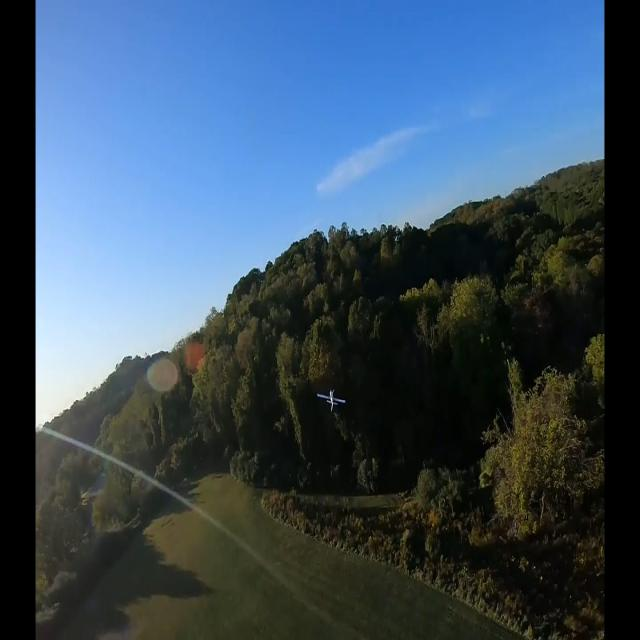iha: (310, 389, 340, 412)
